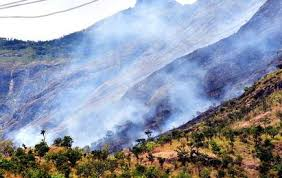smoke: (74, 5, 206, 124), (20, 99, 73, 144)
